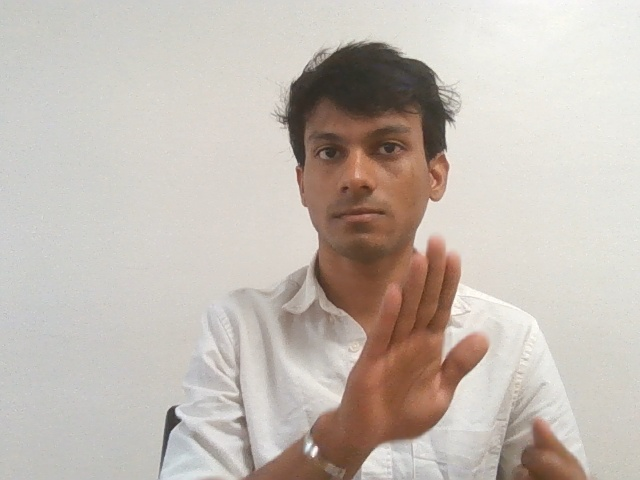Hello: (345, 234, 491, 462)
